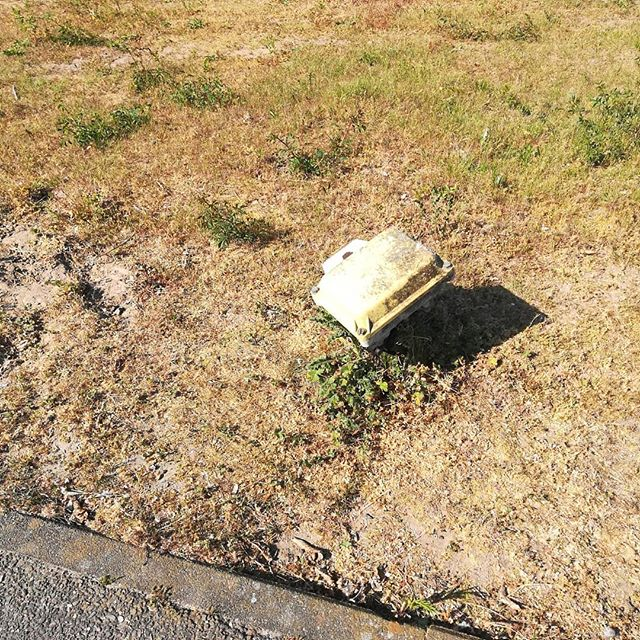grass: (1, 1, 640, 508)
trash: (276, 175, 484, 380)
